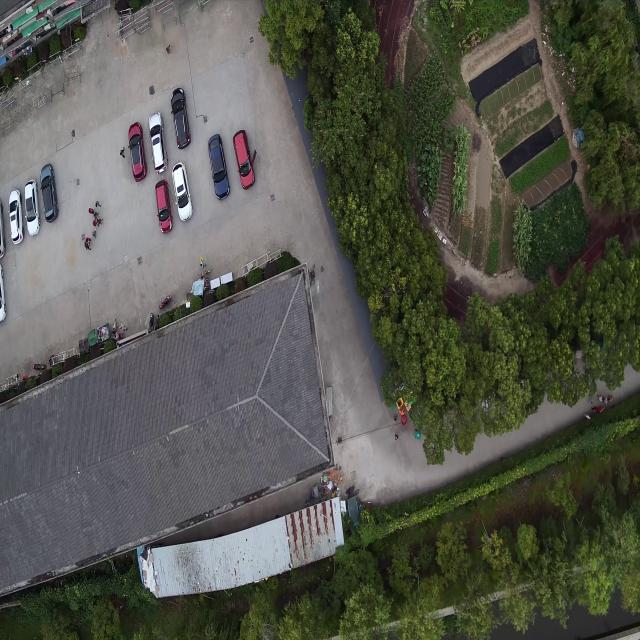UAV: (311, 277, 326, 302)
